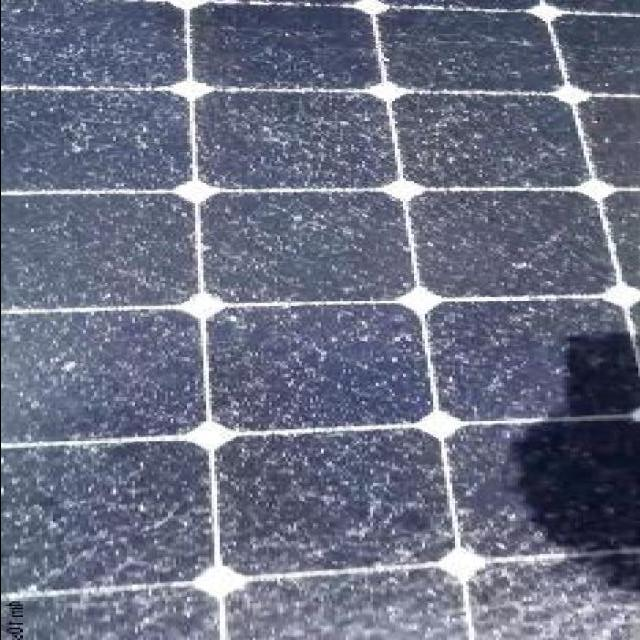cracked: (2, 1, 634, 638)
